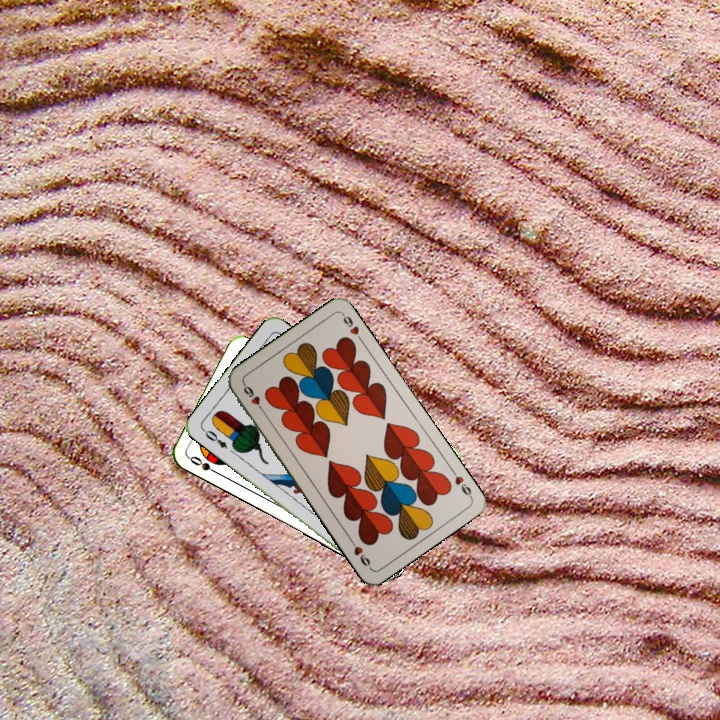EO: (198, 425, 230, 451)
H9: (239, 379, 267, 415), (447, 464, 475, 500)
SO: (185, 452, 223, 478)
